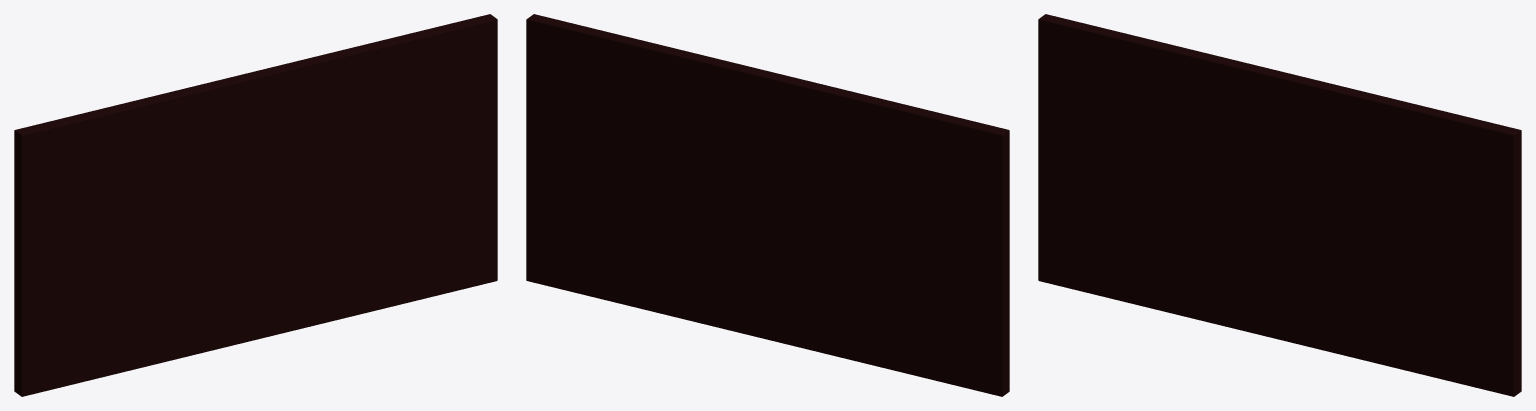
File: sklep01w.FBX
3 renders of one model, left to right at view 1: azimuth 30°, elevation 25°; view 2: azimuth 150°, elevation 25°; view 3: azimuth 330°, elevation 25°, orthographic.
Parts seen in each view (by area): view 1: Box084; view 2: Box084; view 3: Box084.
Boxes of the visible parts, x1,y1,x2,y2 form: Box084: (14, 14, 497, 396); Box084: (526, 14, 1009, 396); Box084: (1038, 14, 1521, 396).
Size of the model in its own units: 483 by 254 by 12.7.
